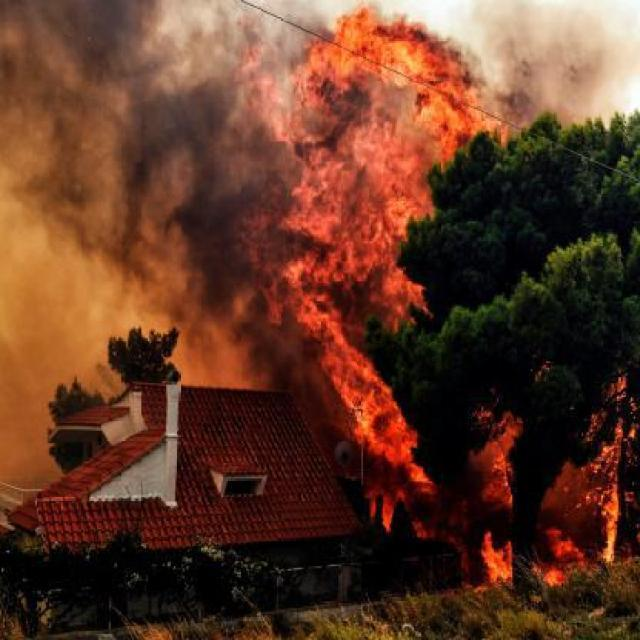Fire: (277, 0, 443, 552), (542, 445, 630, 590), (465, 407, 518, 587), (440, 34, 492, 160), (233, 26, 281, 160), (592, 372, 638, 442), (448, 496, 464, 554)
